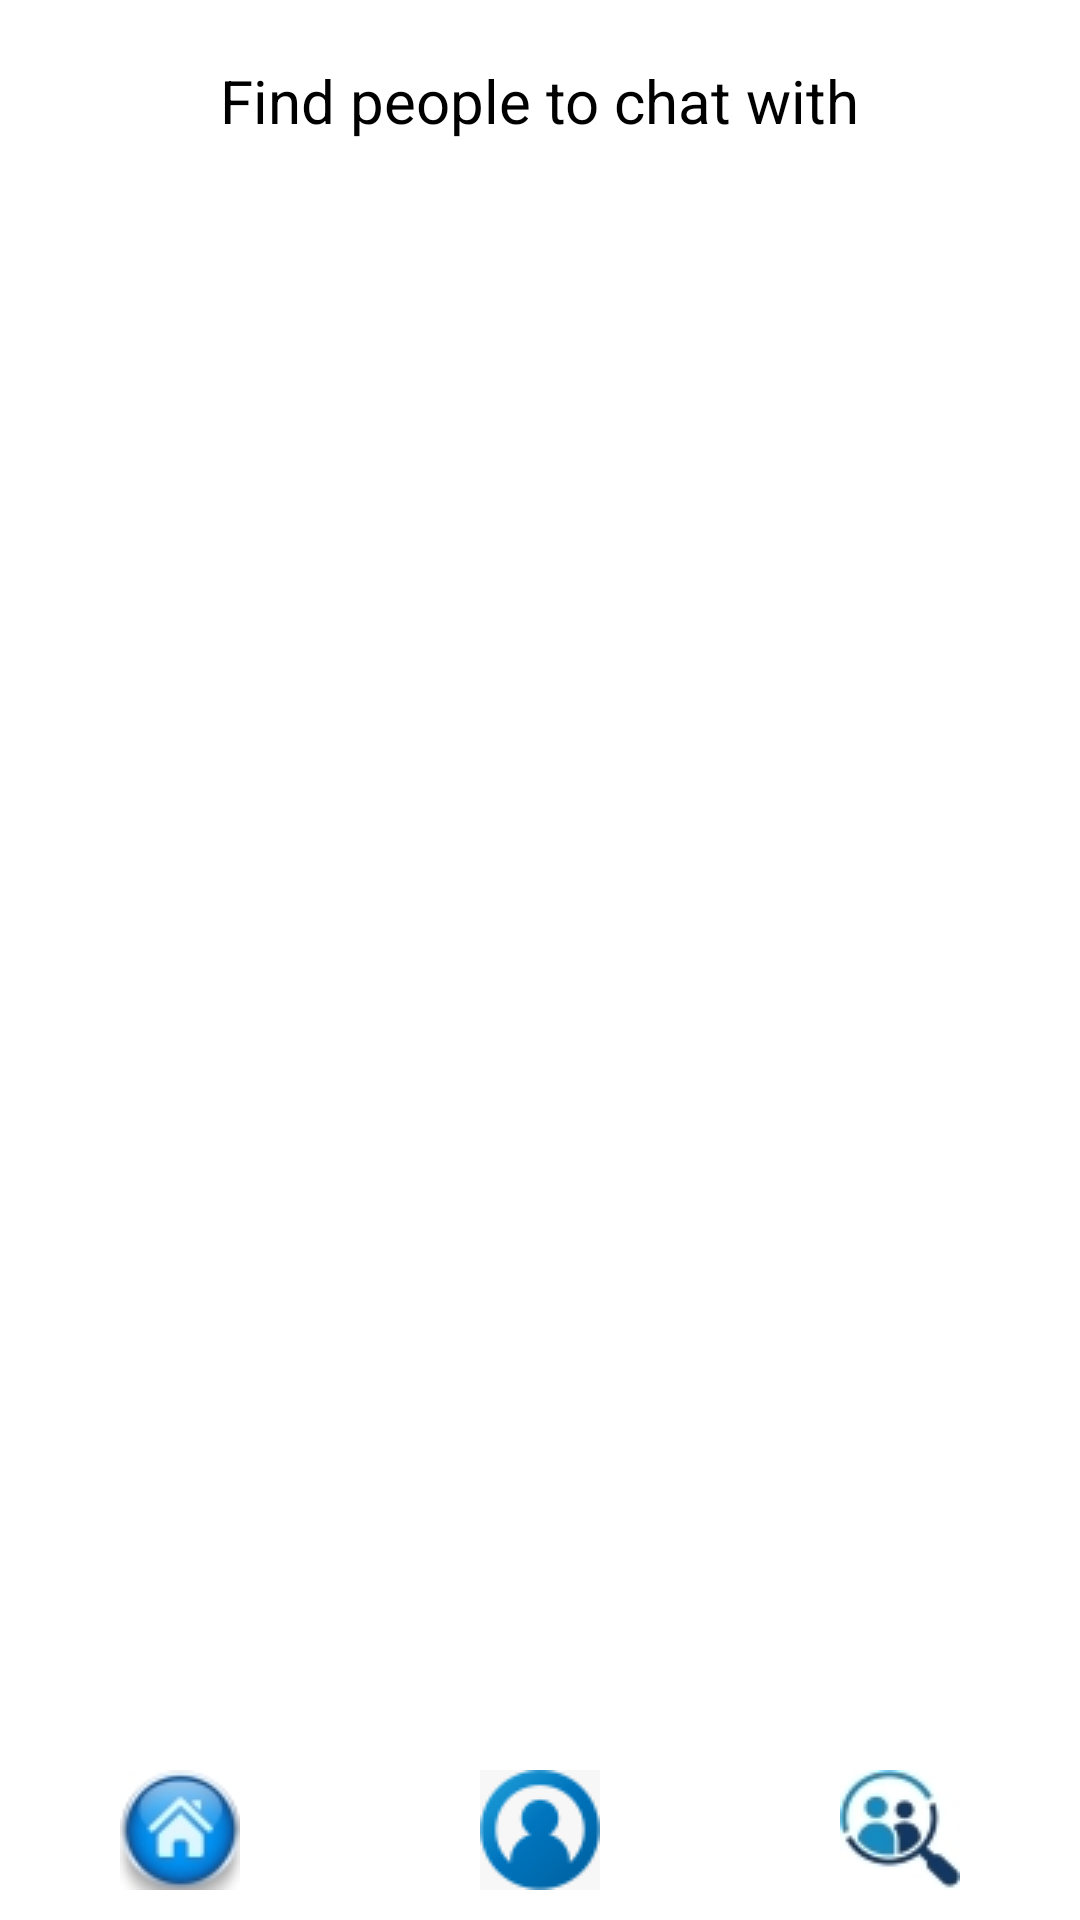

Named icons in this screenshot (1080 × 1920) and their centers, point (x, y):
homeicon: point (180, 1831)
myprofile: point (540, 1830)
search: point (900, 1829)
